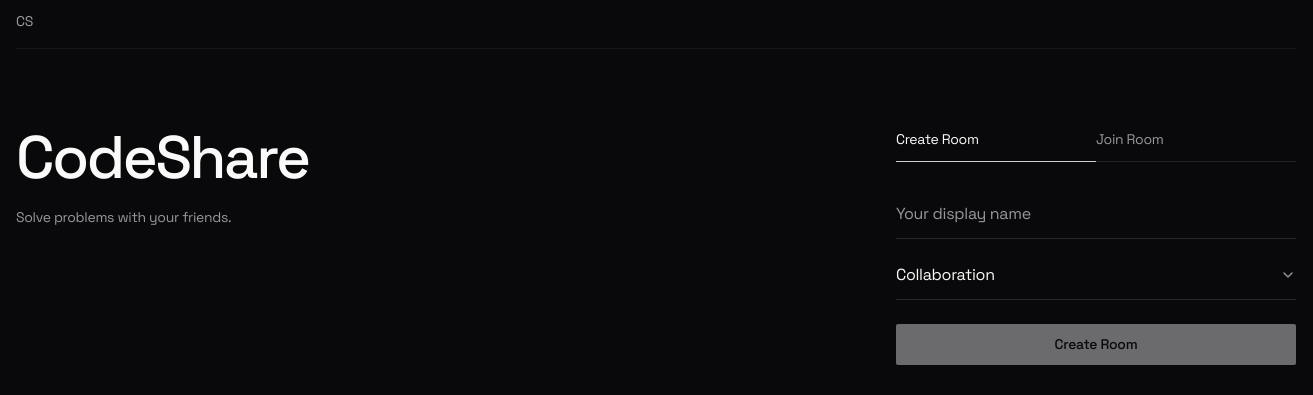
it: HomePage › renders display name input and mode selector
Check: the field with placeholder "Your display name" is shown, box [896,202,1296,239]
Click the dropdown at {"x": 945, "y": 274}, box [896,263,1296,300]
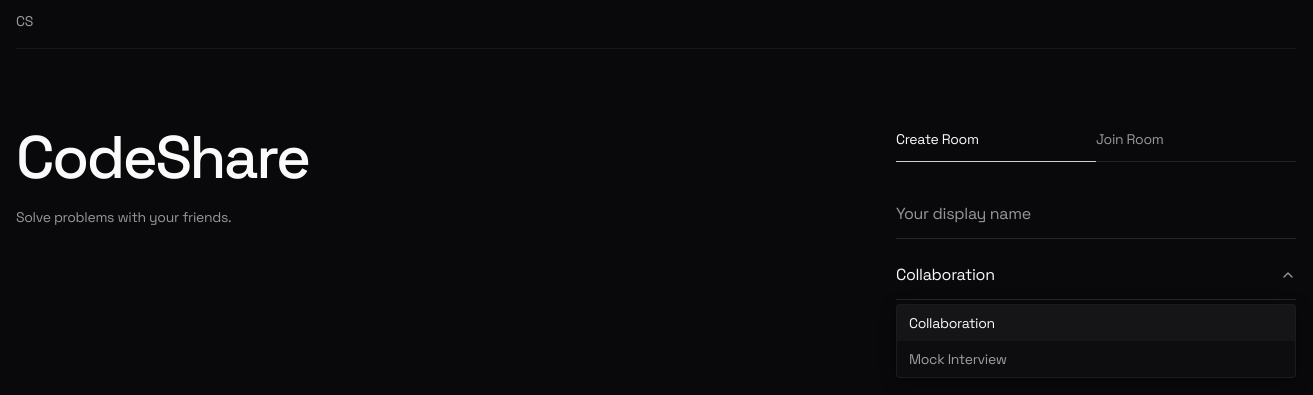
Check: the option "Mock Interview" is shown, box [909,350,1007,368]
